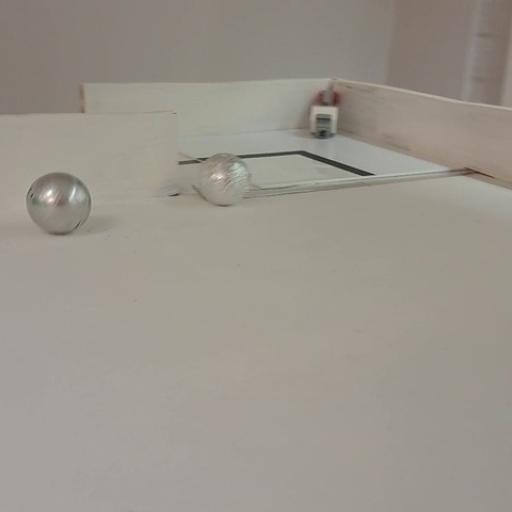alive: (24, 170, 94, 236), (195, 154, 251, 206)
